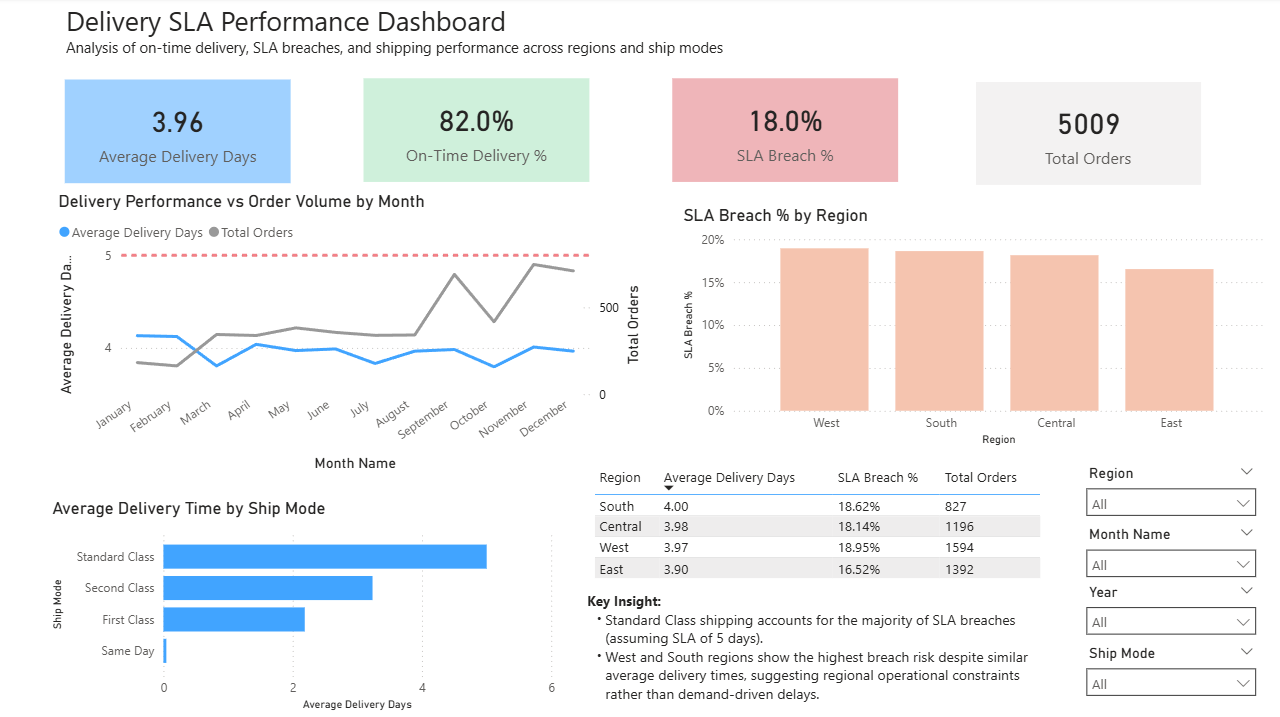

The page's visual inventory and layout, read from the dashboard file:
{"tool":"powerbi","page":{"name":"Page 1","canvas":[1280,720],"ordinal":0},"visuals":[{"type":"card","fields":{"Values":["Fact_Orders.Average Delivery Time"]},"box":[68.5,81.9,225.2,103.2],"z":0},{"type":"card","fields":{"Values":["Fact_Orders.Total Orders"]},"box":[975.3,84.1,223.6,102.4],"z":1000},{"type":"card","fields":{"Values":["Fact_Orders.SLA Breach %"]},"box":[673,80.7,225.2,103.2],"z":2000},{"type":"card","fields":{"Values":["Fact_Orders.On-Time Delivery %"]},"box":[365.8,80.7,225.2,103.2],"z":3000},{"type":"clusteredBarChart","title":"Average Delivery Time by Ship Mode","fields":{"Category":["Fact_Orders.Ship Mode"],"Y":["Fact_Orders.Average Delivery Time"]},"box":[50.5,498.3,510.7,216.4],"z":4000},{"type":"clusteredColumnChart","title":"SLA Breach % by Region","fields":{"Category":["Dim_Customer.Region"],"Y":["Fact_Orders.SLA Breach %"]},"box":[679.5,206.3,587.2,245.3],"z":5000},{"type":"lineChart","title":"Delivery Performance vs Order Volume by Month","fields":{"Category":["DimDate.Month Name"],"Y":["Fact_Orders.Average Delivery Days"],"Y2":["Fact_Orders.Total Orders"]},"box":[57.7,193.3,590.1,284.2],"z":6000},{"type":"tableEx","fields":{"Values":["Dim_Customer.Region","Fact_Orders.Average Delivery Time","Fact_Orders.SLA Breach %","Fact_Orders.Total Orders"]},"box":[590.1,461.3,455.9,150],"z":7000},{"type":"slicer","fields":{"Values":["Fact_Orders.Year"]},"box":[1074.9,579,189,88],"z":8000},{"type":"slicer","fields":{"Values":["Dim_Customer.Region"]},"box":[1074.9,460.1,189,88],"z":9000},{"type":"slicer","fields":{"Values":["DimDate.Month Name"]},"box":[1074.9,521.3,189,57.7],"z":10000},{"type":"slicer","fields":{"Values":["Fact_Orders.Ship Mode"]},"box":[1074.9,639.6,189,73.6],"z":11000},{"type":"textbox","box":[582.9,587.2,476.1,131.3],"z":12000},{"type":"textbox","box":[64.9,0,828.1,69.3],"z":13000}]}

Visuals, with their boxes in screenshot pixels (x1, y1, x2, y2), scaled from the page's 1280x720 canvas onto the 1280x717 screenshot:
card - Fact_Orders.Average Delivery Time: select_region(68, 82, 294, 184)
card - Fact_Orders.Total Orders: select_region(975, 84, 1199, 186)
card - Fact_Orders.SLA Breach %: select_region(673, 80, 898, 183)
card - Fact_Orders.On-Time Delivery %: select_region(366, 80, 591, 183)
"Average Delivery Time by Ship Mode" clusteredBarChart: select_region(50, 496, 561, 712)
"SLA Breach % by Region" clusteredColumnChart: select_region(680, 205, 1267, 450)
"Delivery Performance vs Order Volume by Month" lineChart: select_region(58, 192, 648, 476)
tableEx - Dim_Customer.Region x Fact_Orders.Average Delivery Time: select_region(590, 459, 1046, 609)
slicer - Fact_Orders.Year: select_region(1075, 577, 1264, 664)
slicer - Dim_Customer.Region: select_region(1075, 458, 1264, 546)
slicer - DimDate.Month Name: select_region(1075, 519, 1264, 577)
slicer - Fact_Orders.Ship Mode: select_region(1075, 637, 1264, 710)
textbox: select_region(583, 585, 1059, 716)
textbox: select_region(65, 0, 893, 69)
